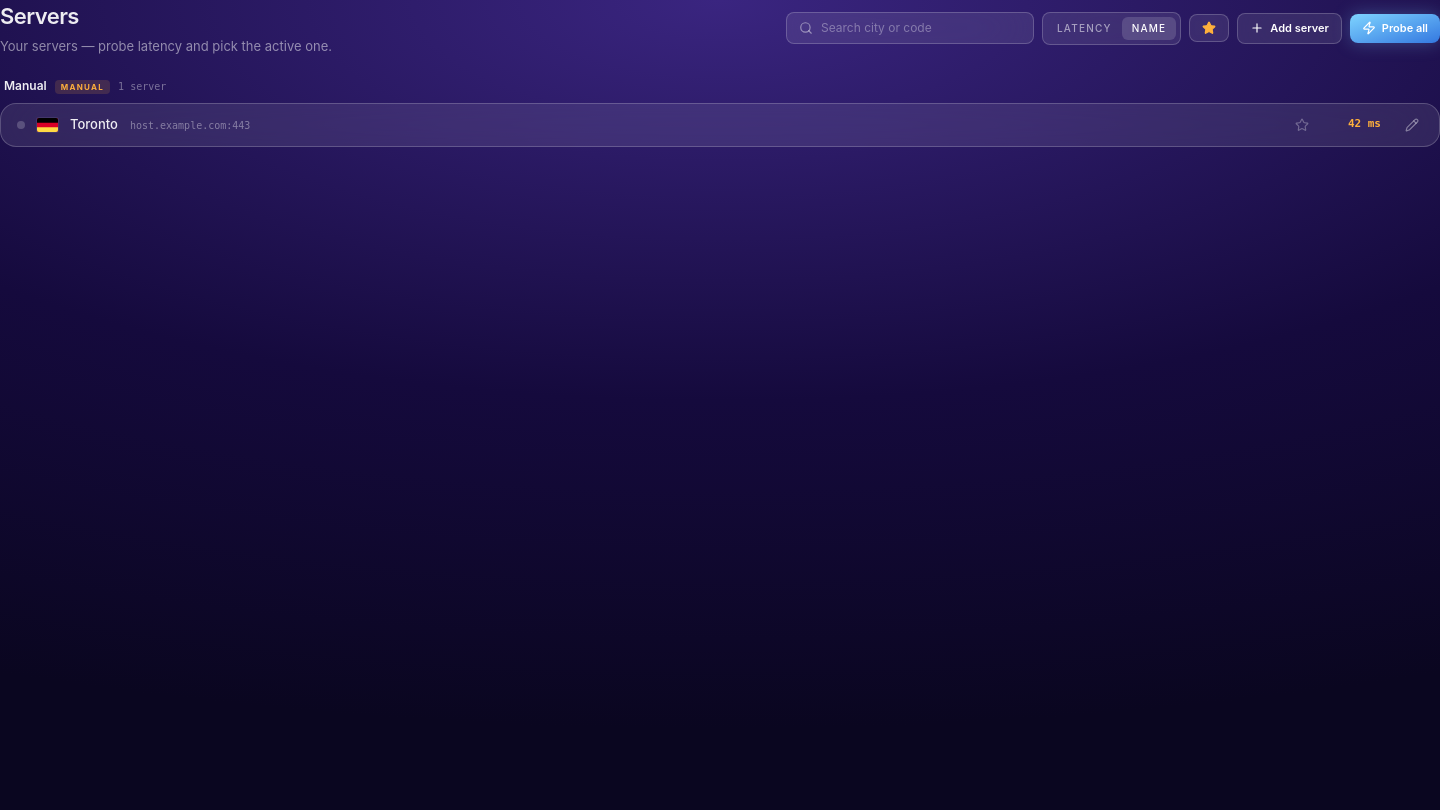
Test: Servers page › Delete error surfaces in the modal without closing
Step 1. Click the button titled "Edit" → coordinates (1412, 124), box [1401,114,1423,136]
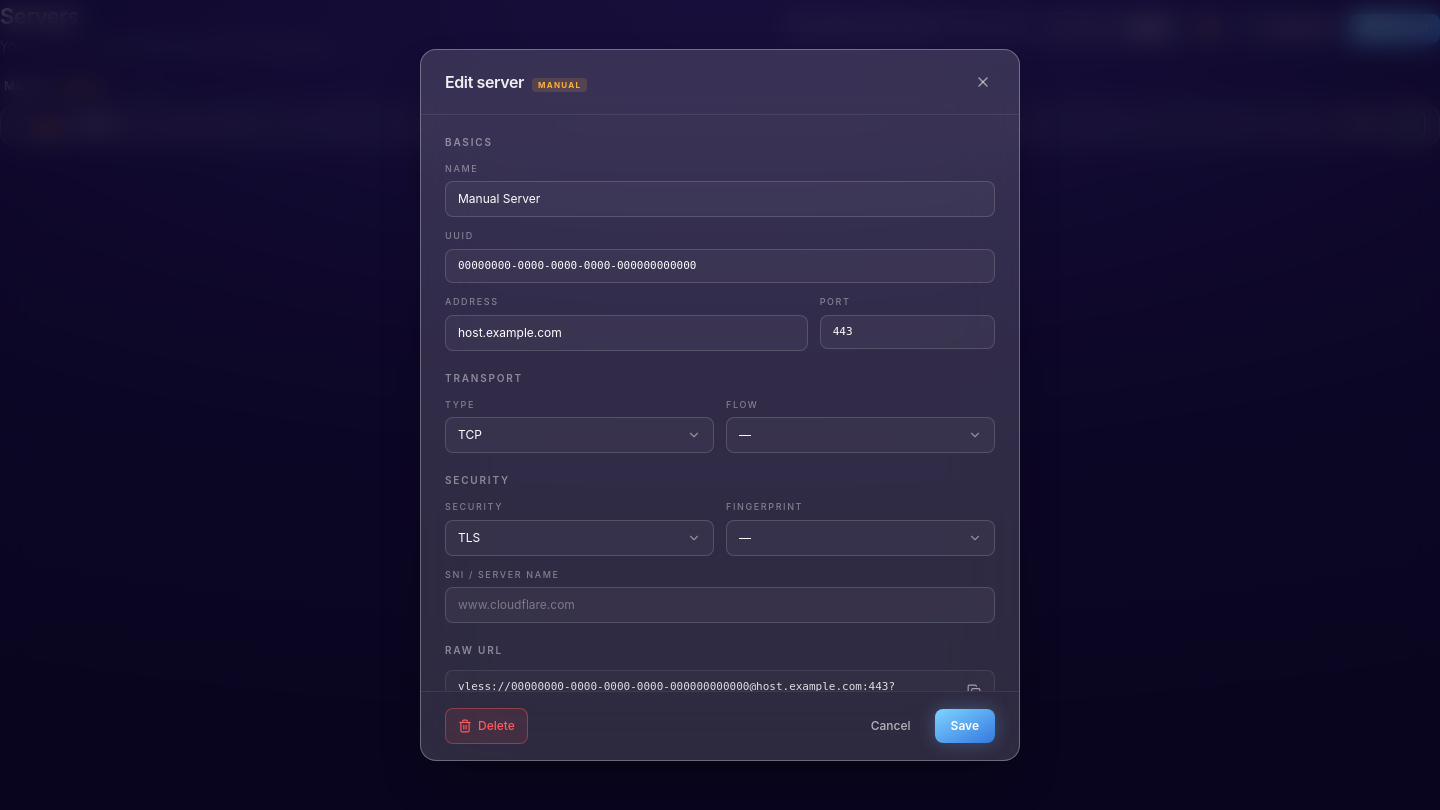
Step 2. Click the button "Delete" → coordinates (486, 726), box [445,708,528,744]
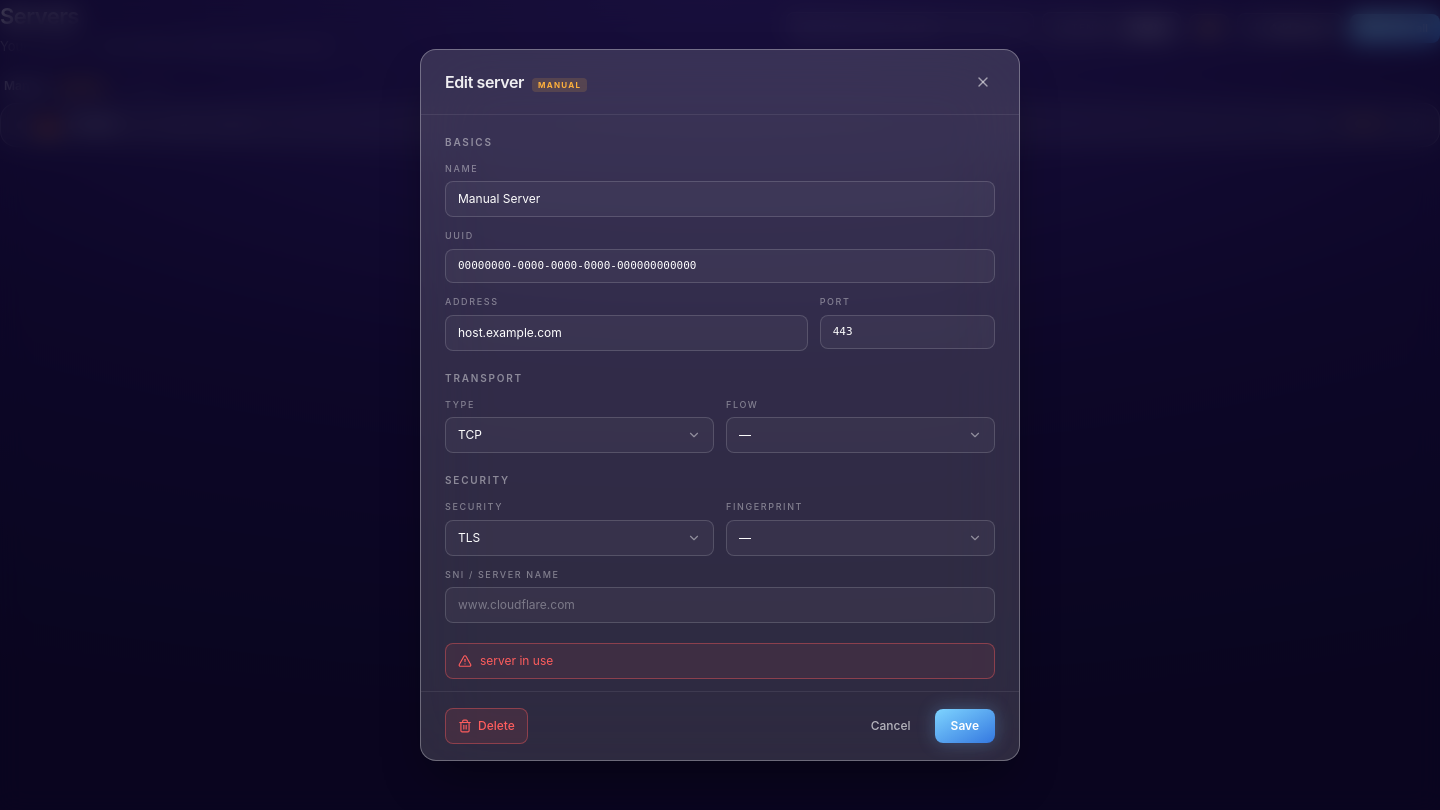
Check: the heading "Edit server" is shown, box [445,70,524,94]
Check: the text "server in use" is shown, box [480,652,553,670]
